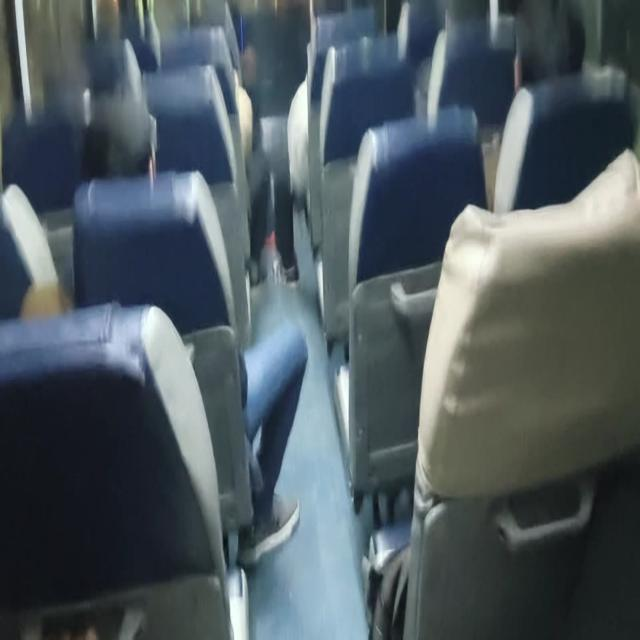person: (2, 1, 638, 637), (370, 146, 639, 637), (71, 169, 309, 566), (237, 319, 309, 566), (513, 0, 586, 91)
